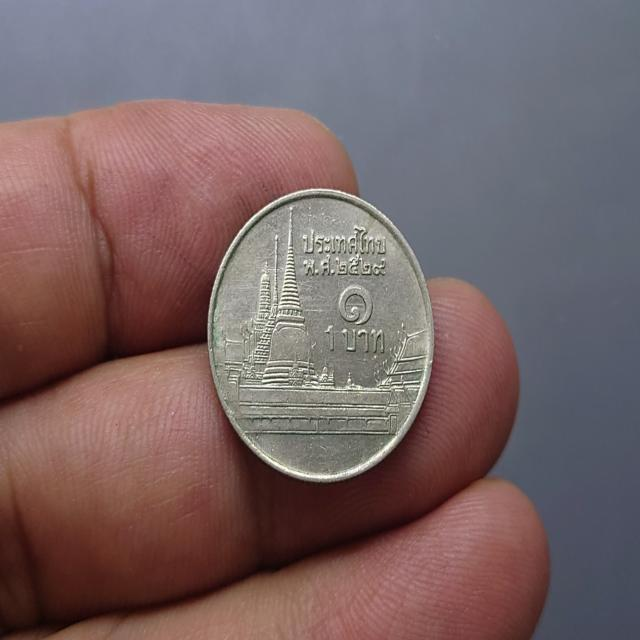1 Bath: (202, 174, 446, 495)
